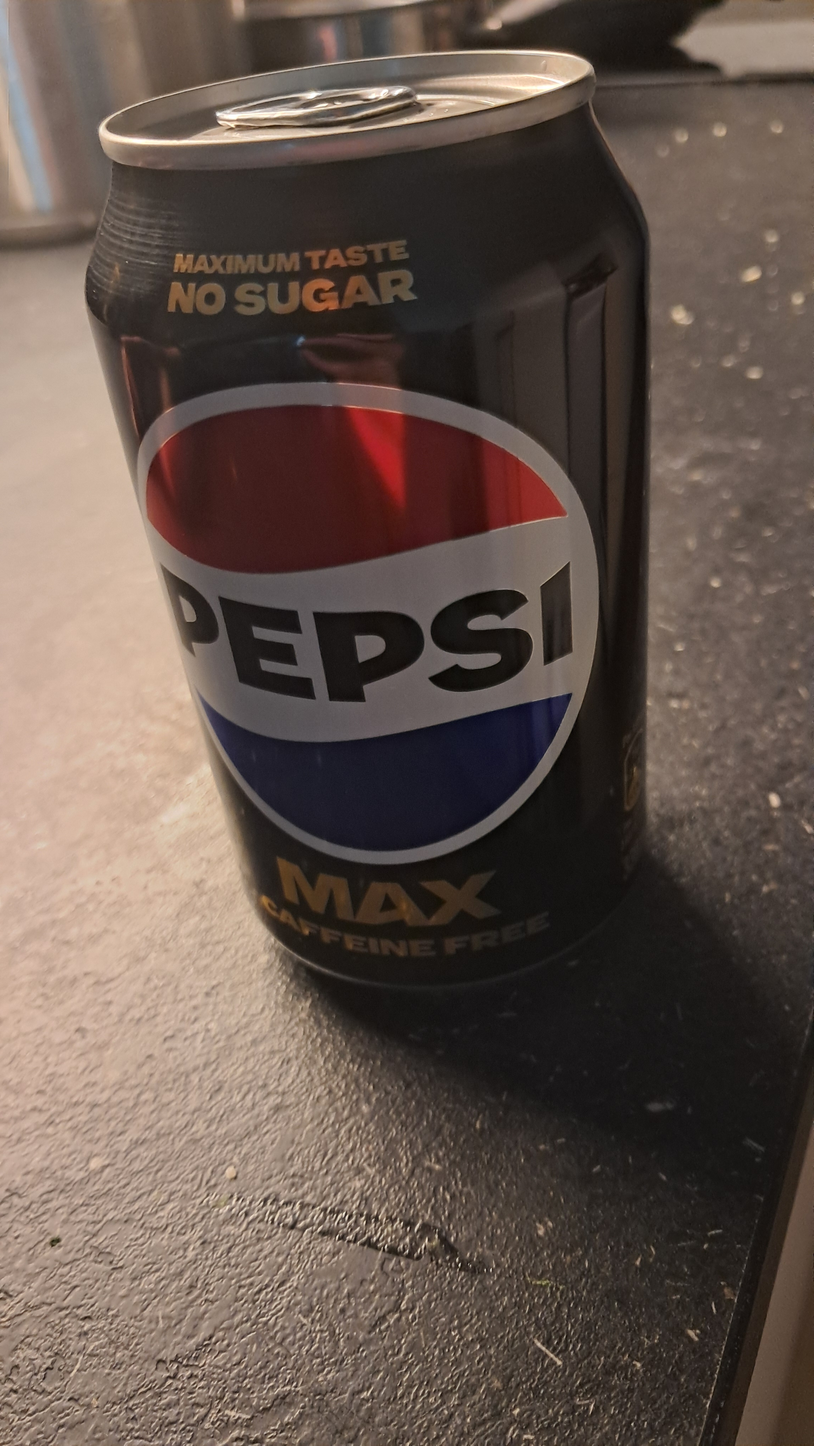Pantburk: (83, 51, 654, 998)
